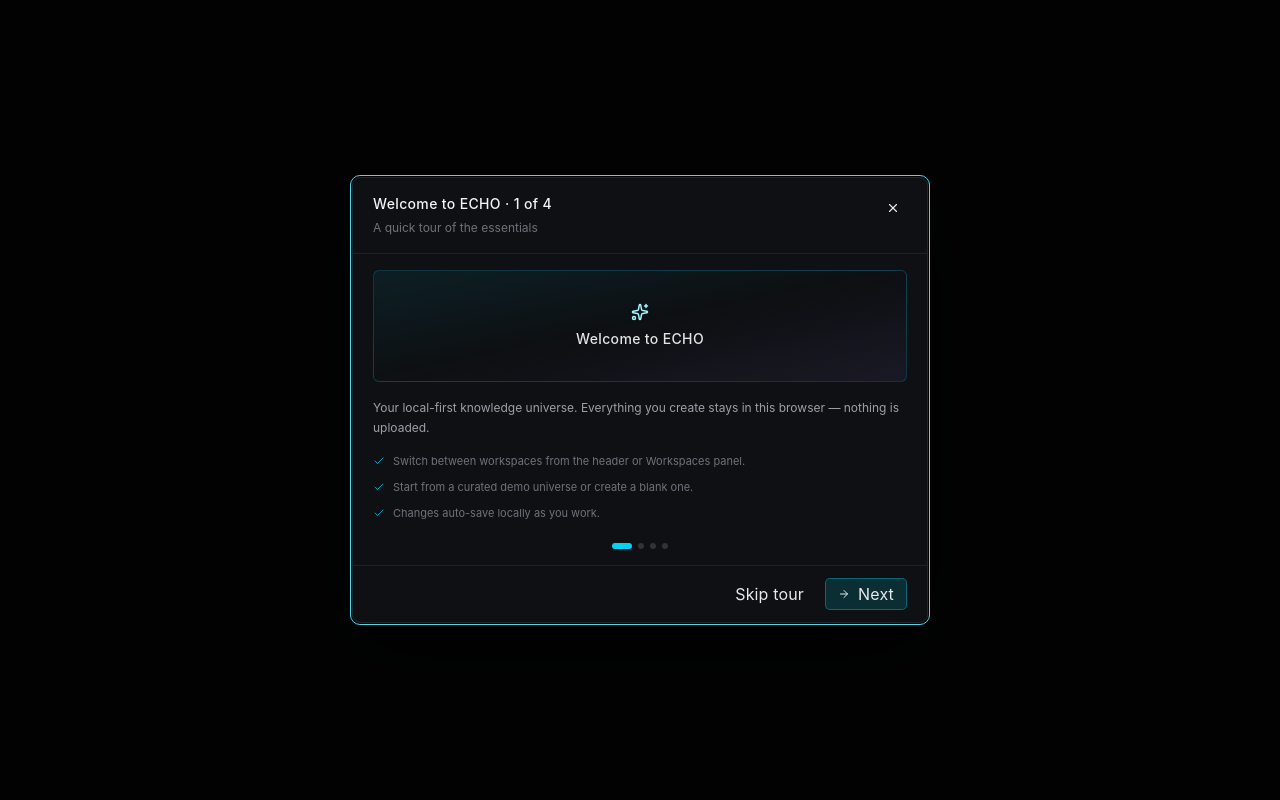
Test: Onboarding › jumps directly to a step using the progress dots
Click the button named "Go to step 4" at (665, 546), box 662,543 -> 668,549
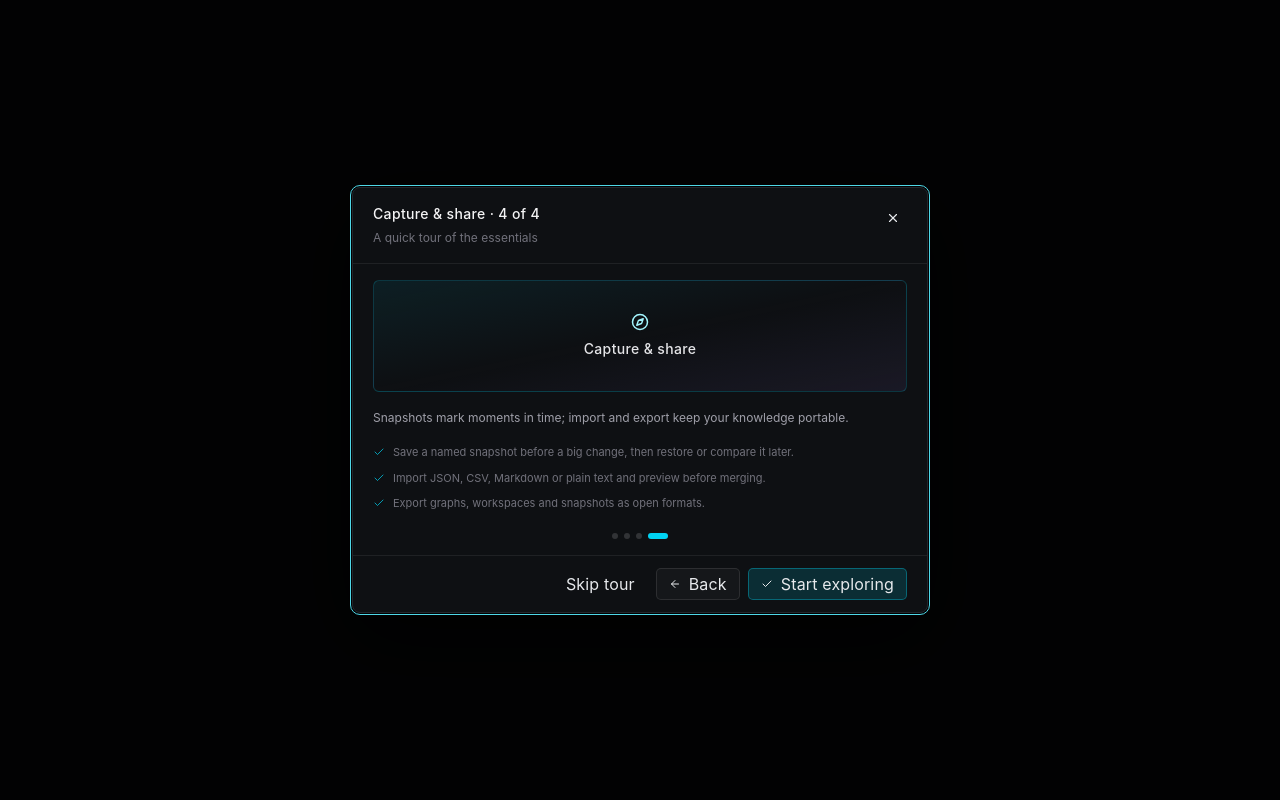
Check: the dialog "Capture & share · 4 of 4" is shown, box 352,187 -> 928,613
Check: the text "Snapshots mark moments in time" is shown, box 373,410 -> 849,425
Check: the button "Start exploring" is shown, box 748,568 -> 907,600
